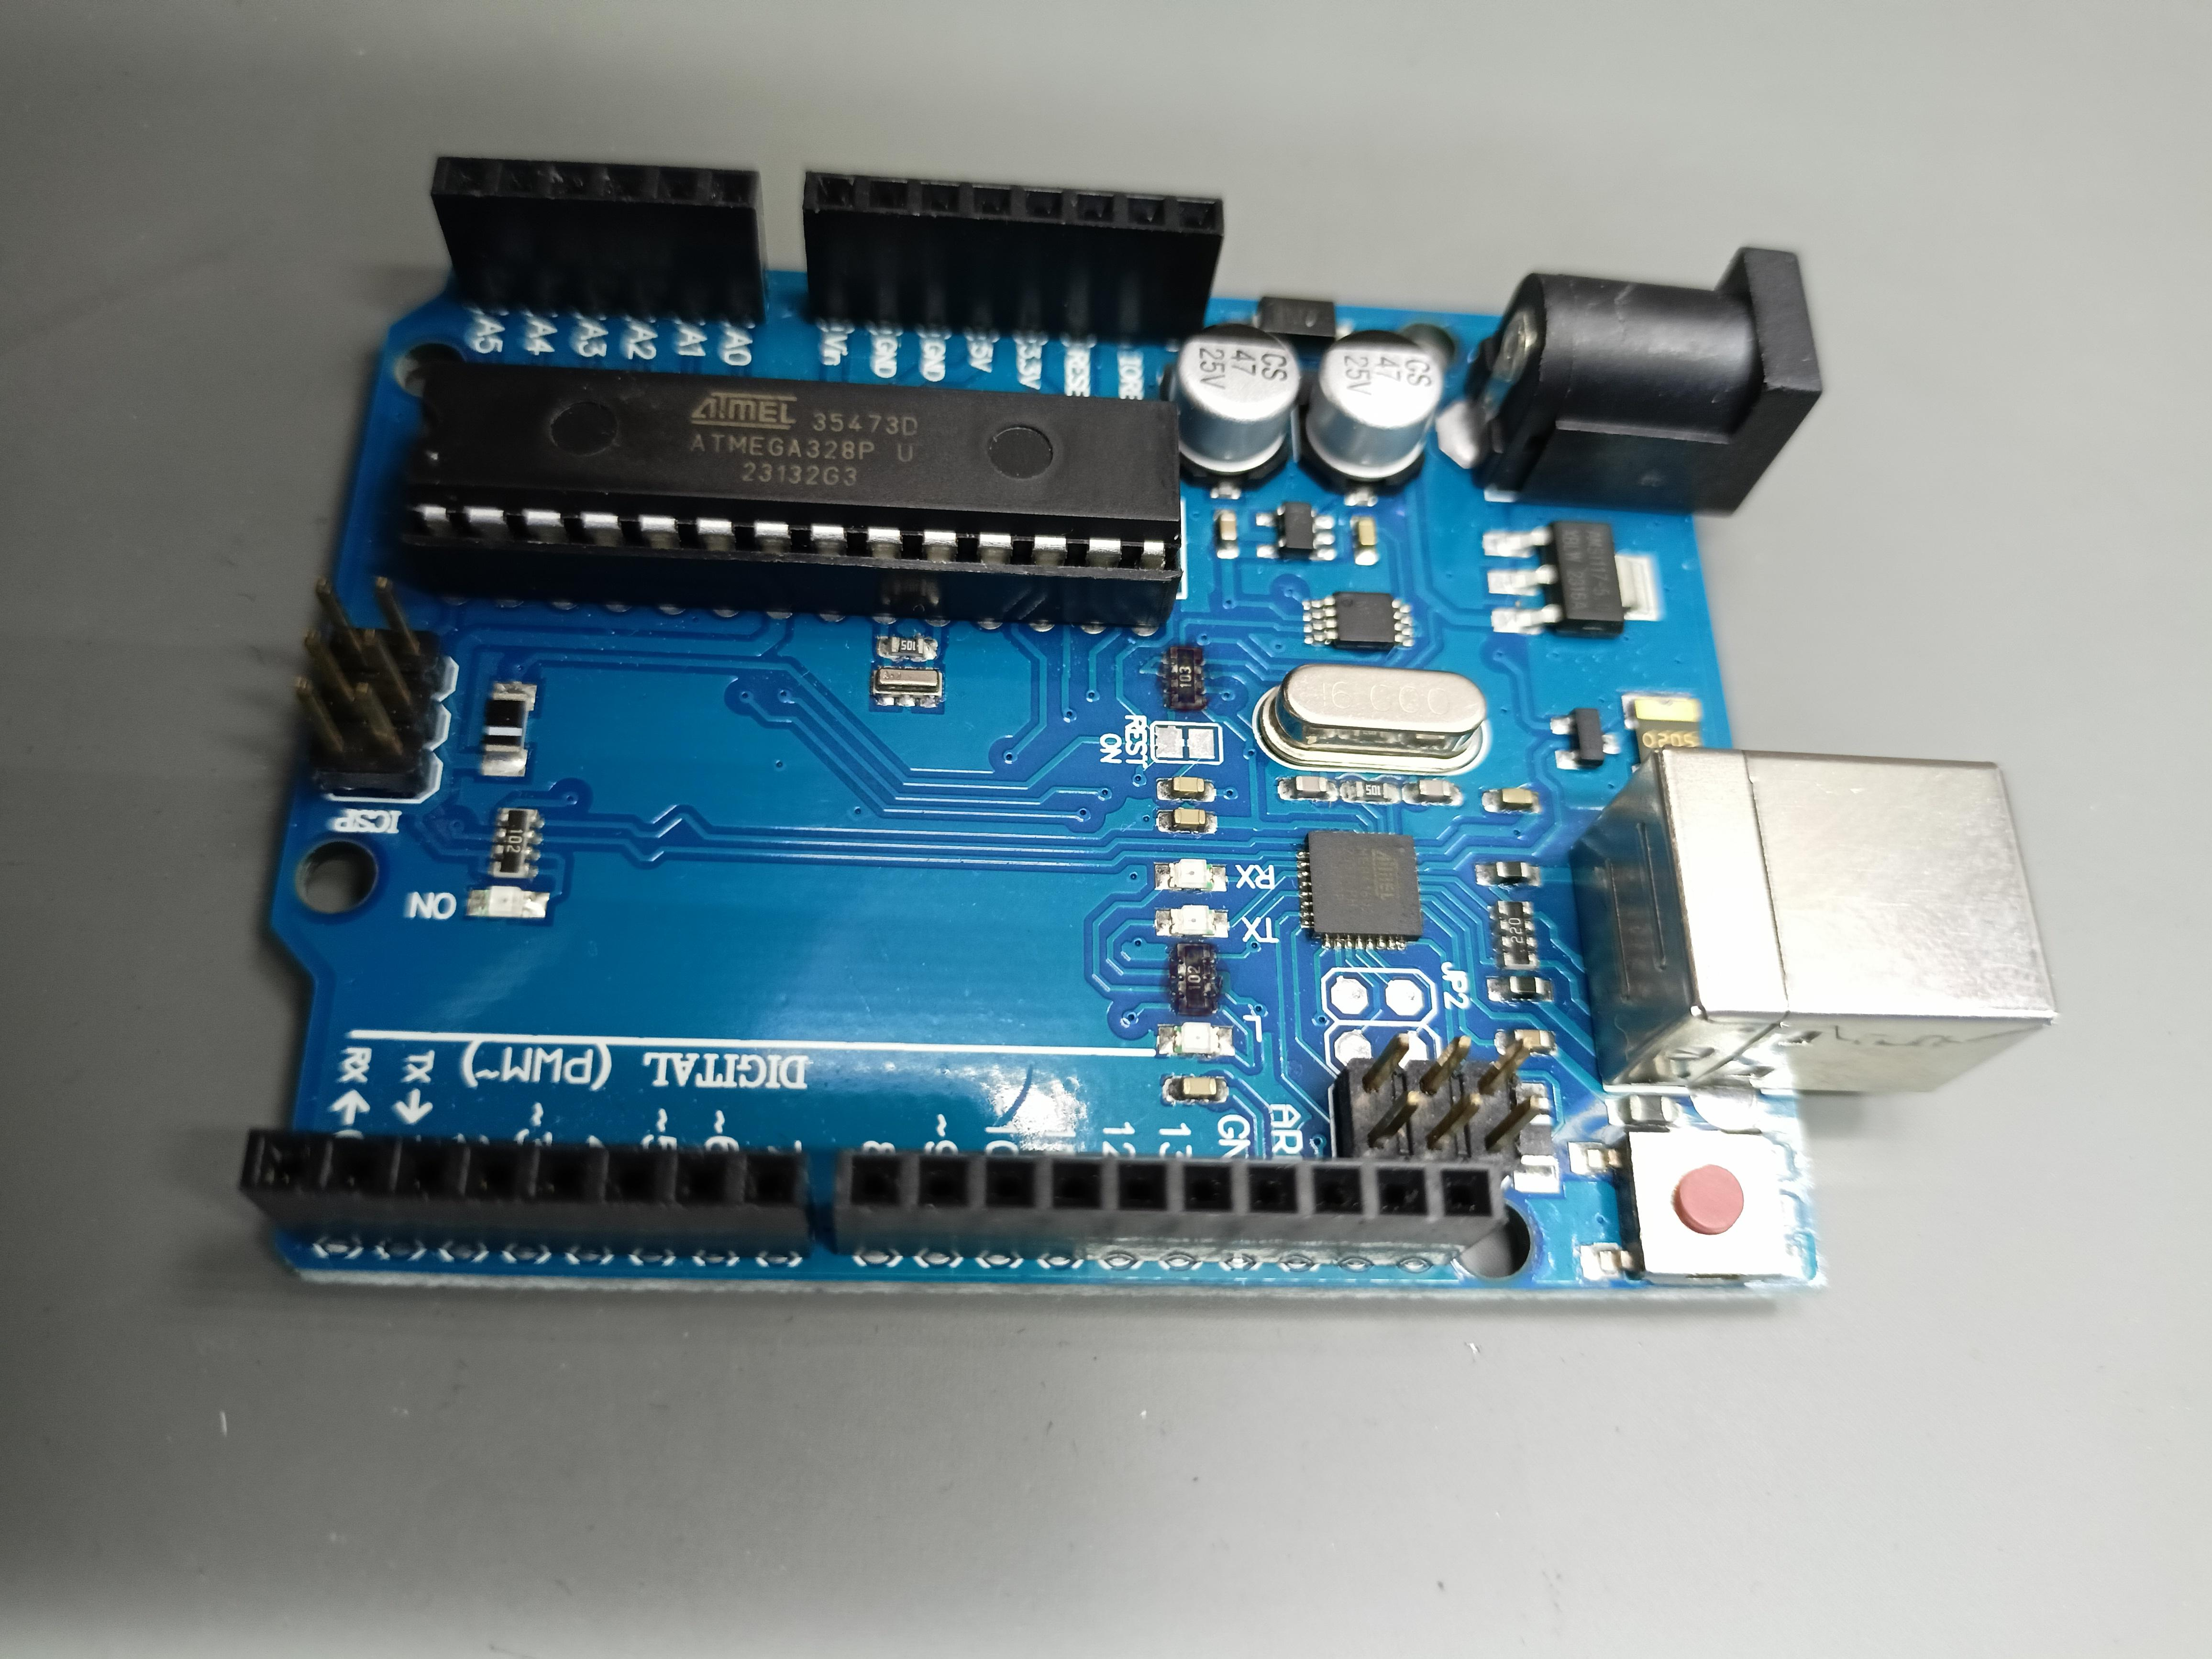ATmega328 chip: (404, 361, 1183, 626)
Arduino board: (237, 155, 2059, 1295)
Overheat: (1155, 636, 1231, 713), (1158, 941, 1233, 1018)
USB: (1568, 744, 2059, 1093)
capacitor: (1298, 329, 1442, 495), (1160, 322, 1301, 490)
pins: (833, 1148, 1508, 1265), (237, 1127, 815, 1258), (803, 171, 1224, 343), (430, 155, 770, 322)
resistor: (488, 807, 540, 880), (1493, 901, 1538, 971), (1172, 945, 1212, 1014), (1167, 647, 1204, 709)
